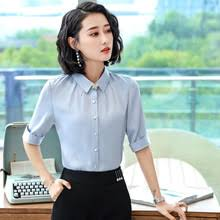F_shirt: (24, 66, 150, 171)
